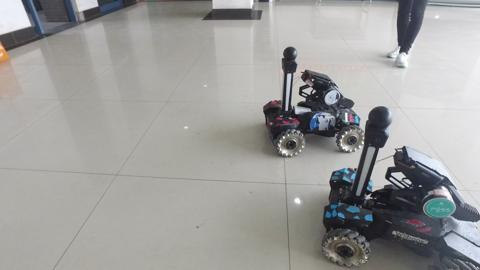chariot: (325, 103, 478, 268), (255, 46, 372, 158)
